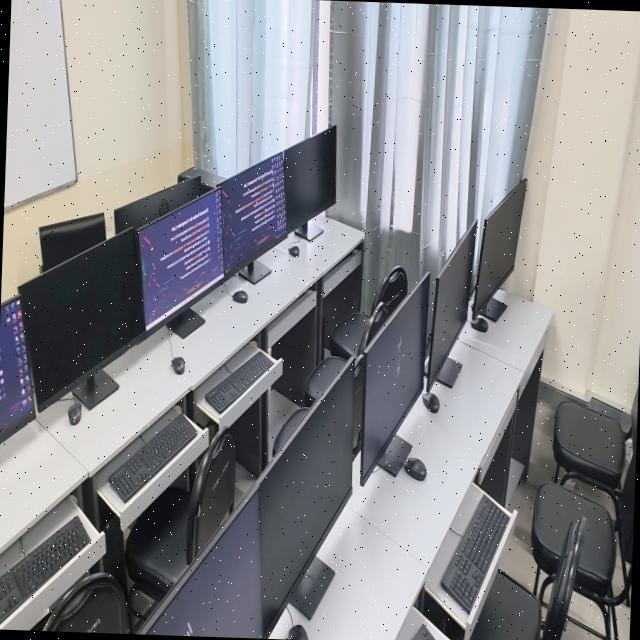Chair: (531, 442, 636, 640), (126, 429, 236, 597), (468, 516, 586, 640), (552, 386, 638, 507), (43, 572, 129, 633), (39, 212, 106, 273), (272, 402, 312, 456), (304, 356, 347, 406), (357, 302, 388, 367), (329, 312, 370, 359), (372, 265, 407, 315), (352, 356, 365, 456)
Keyboard: (0, 515, 90, 623), (441, 494, 509, 613), (109, 412, 197, 502), (205, 352, 273, 413), (412, 623, 436, 640)
Monitor: (257, 362, 353, 638), (18, 228, 148, 411), (144, 485, 263, 638), (360, 274, 429, 485), (138, 190, 223, 329), (219, 151, 287, 276), (426, 223, 476, 391), (471, 178, 527, 319), (113, 175, 210, 234), (284, 126, 336, 231), (0, 295, 35, 443)
Mouse: (403, 457, 426, 481), (67, 399, 81, 425), (422, 392, 439, 412), (288, 624, 308, 640), (471, 315, 488, 331), (171, 356, 185, 374), (232, 290, 247, 302), (288, 243, 299, 256)
